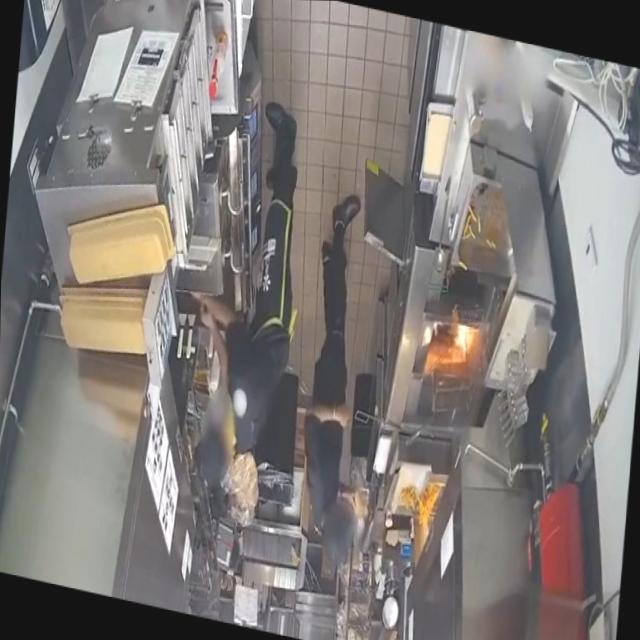fire: (412, 287, 496, 422)
